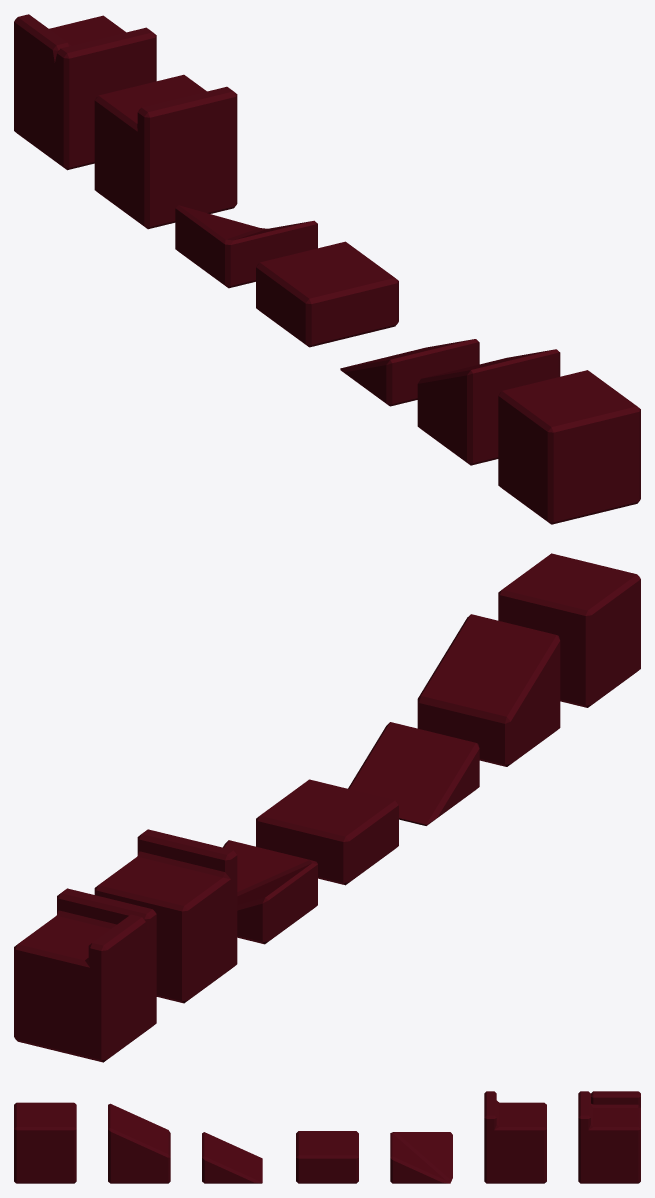
The model's file is speed-blocks-v1.glb.
The picture shows the model from 3 angles, top to bottom: view 1: azimuth 30°, elevation 25°; view 2: azimuth 150°, elevation 25°; view 3: azimuth 270°, elevation 25°; orthographic projection. The views are drawn at different scales.
Parts seen in each view (by area): view 1: BlockWall, Block, BlockWallCorner, BlockShort, RampTop, RampLowerCorner, RampBottom; view 2: BlockWallCorner, RampTop, BlockWall, Block, BlockShort, RampBottom, RampLowerCorner; view 3: BlockWallCorner, BlockWall, Block, RampTop, BlockShort, RampLowerCorner, RampBottom.
Part boxes in pixels (bbox=[...]): BlockWall: bbox=[94, 74, 237, 229]; Block: bbox=[498, 370, 640, 524]; BlockWallCorner: bbox=[14, 14, 156, 170]; BlockShort: bbox=[256, 241, 398, 347]; RampTop: bbox=[417, 349, 560, 465]; RampLowerCorner: bbox=[175, 205, 317, 288]; RampBottom: bbox=[340, 339, 479, 406]; BlockWallCorner: bbox=[14, 888, 156, 1062]; RampTop: bbox=[417, 614, 560, 766]; BlockWall: bbox=[94, 829, 237, 1003]; Block: bbox=[498, 553, 640, 707]; BlockShort: bbox=[256, 779, 398, 885]; RampBottom: bbox=[348, 722, 479, 825]; RampLowerCorner: bbox=[223, 840, 317, 944]; BlockWallCorner: bbox=[578, 1091, 640, 1183]; BlockWall: bbox=[484, 1091, 546, 1183]; Block: bbox=[14, 1102, 76, 1183]; RampTop: bbox=[108, 1103, 170, 1183]; BlockShort: bbox=[296, 1131, 358, 1183]; RampLowerCorner: bbox=[390, 1132, 452, 1183]; RampBottom: bbox=[202, 1132, 262, 1183].
Size of what is drawn, in the model's own units: 2 by 2.4 by 20.
